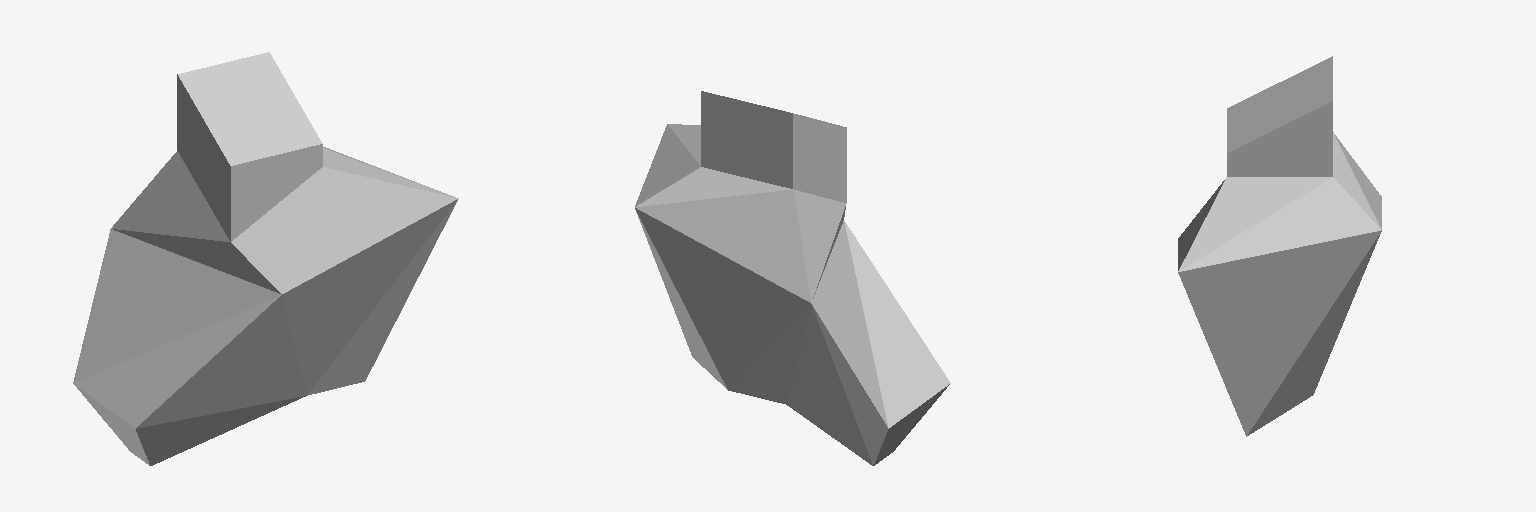
File: Trash18.obj
The picture shows the model from 3 angles: view 1: azimuth 30°, elevation 25°; view 2: azimuth 150°, elevation 25°; view 3: azimuth 270°, elevation 25°; orthographic projection.
Parts seen in each view (by area): view 1: Trash18; view 2: Trash18; view 3: Trash18.
Part boxes in pixels (bbox=[...]): Trash18: bbox=[73, 52, 458, 465]; Trash18: bbox=[635, 91, 950, 465]; Trash18: bbox=[1178, 56, 1381, 436].
Size of the model in its own units: 5.22 by 5.75 by 3.04.